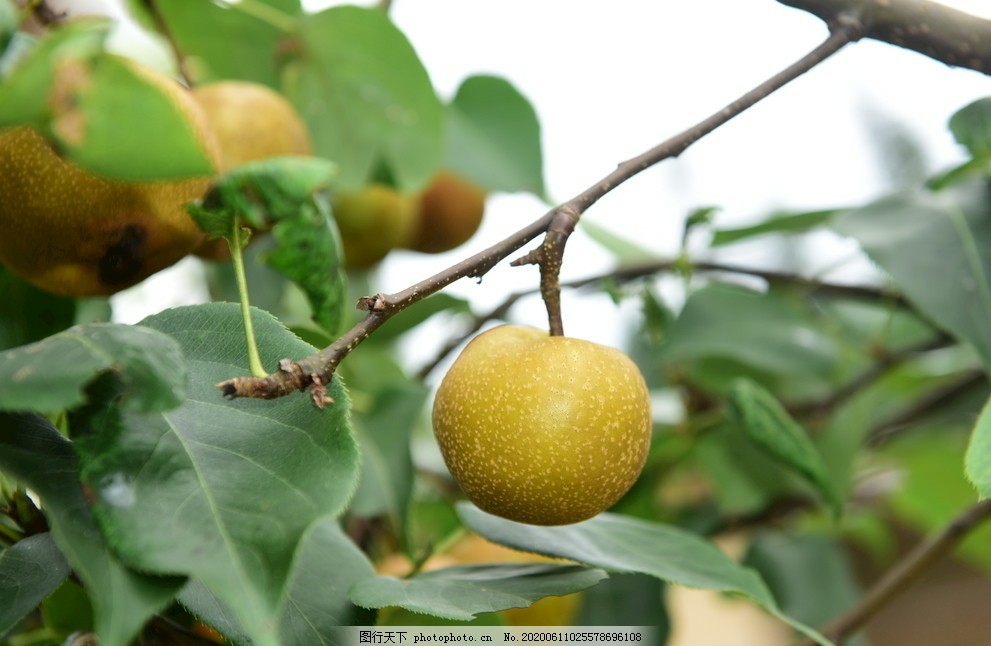pear: (1, 35, 229, 301), (430, 319, 651, 526)
